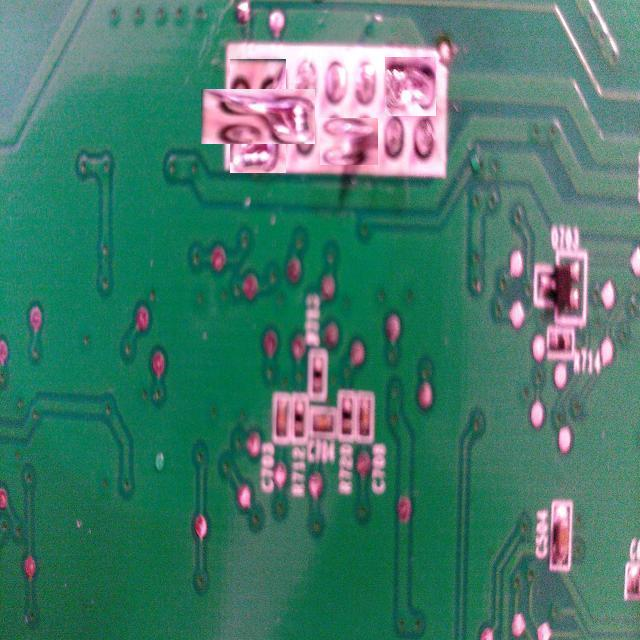Short_circuit: (216, 74, 300, 158), (384, 56, 436, 116), (323, 115, 376, 168)
